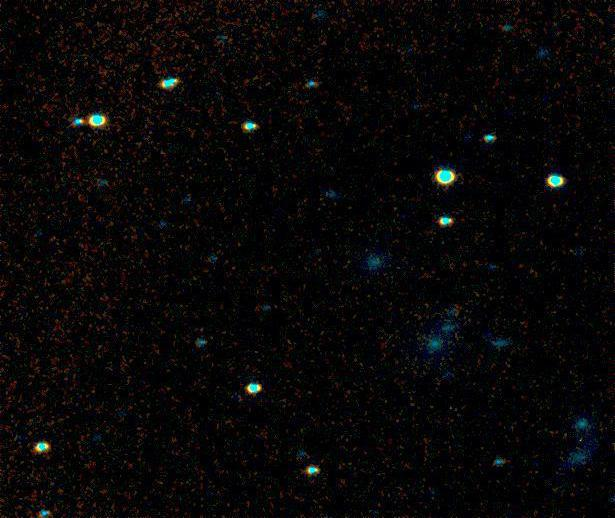star: (471, 321, 501, 351)
